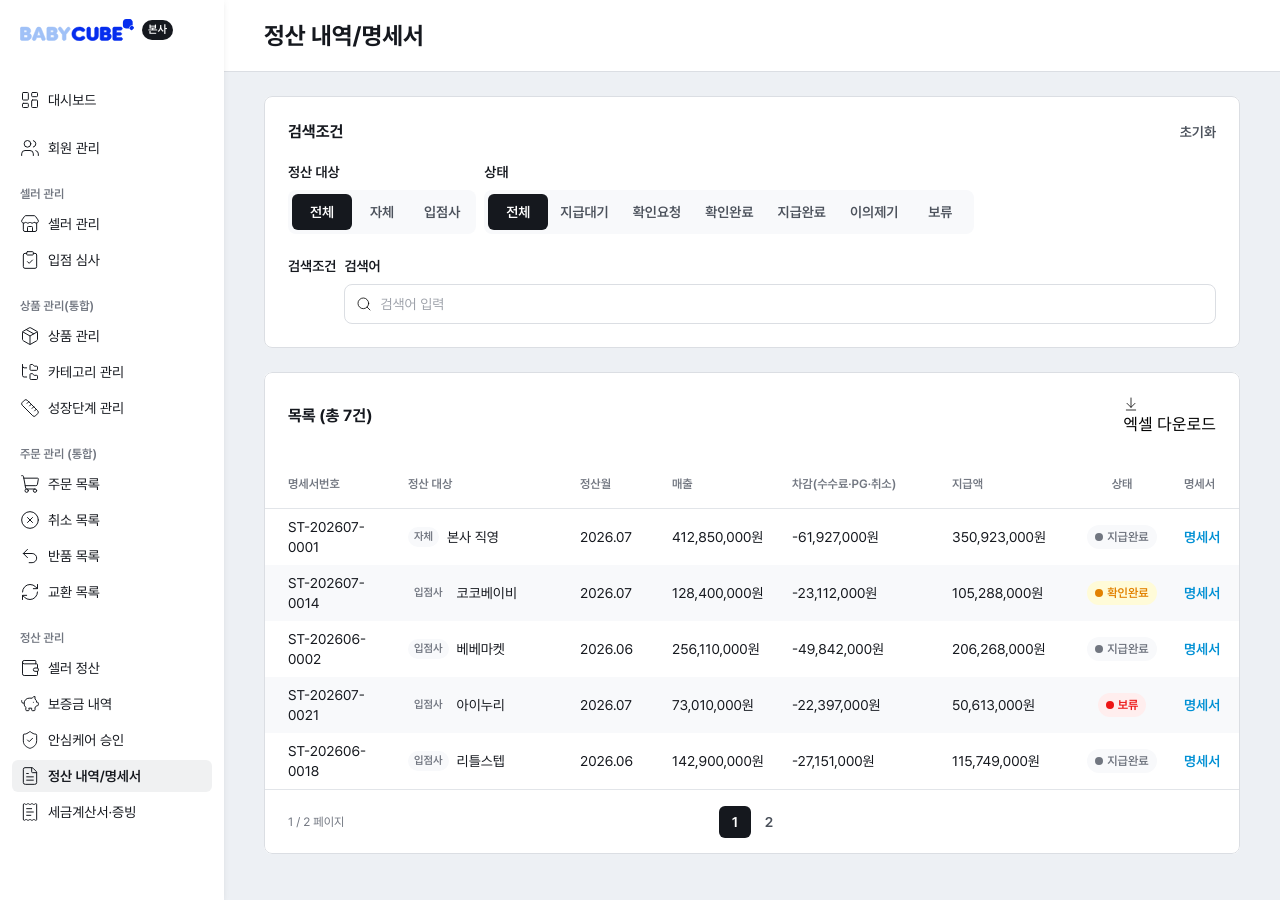
SettlementStatementPage (BabyCube S15 정산 내역/명세서) › 명세서 열 → 미리보기 › '명세서'는 파일을 내려받지 않는다 — 원본은 화면으로 가는 링크다
The image size is (1280, 900).
Click the button "명세서" in the row of "ST-202607-0001": (1202, 536) left=1184, top=524, right=1220, bottom=548
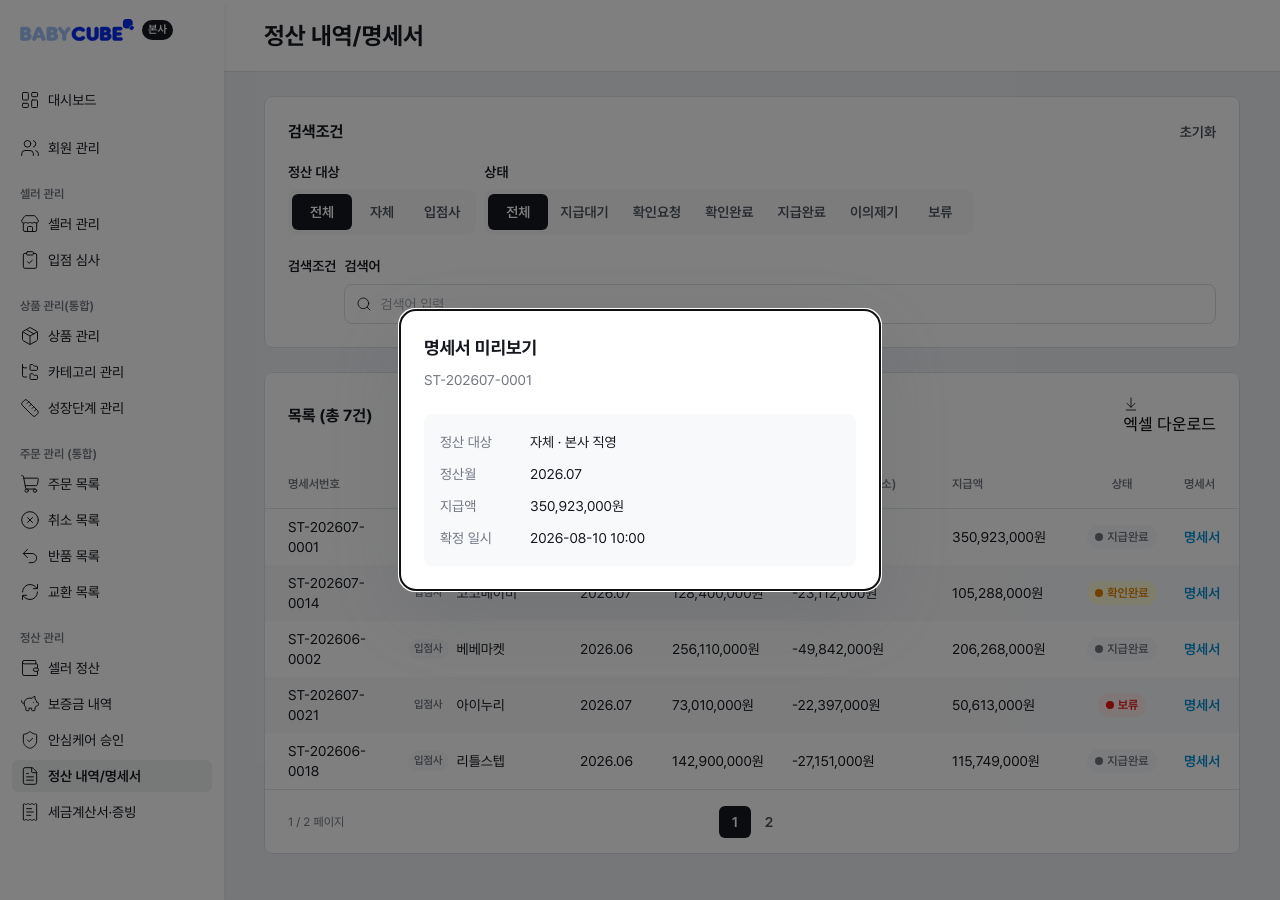
Expected: the heading "명세서 미리보기" is shown, left=424, top=337, right=537, bottom=358
